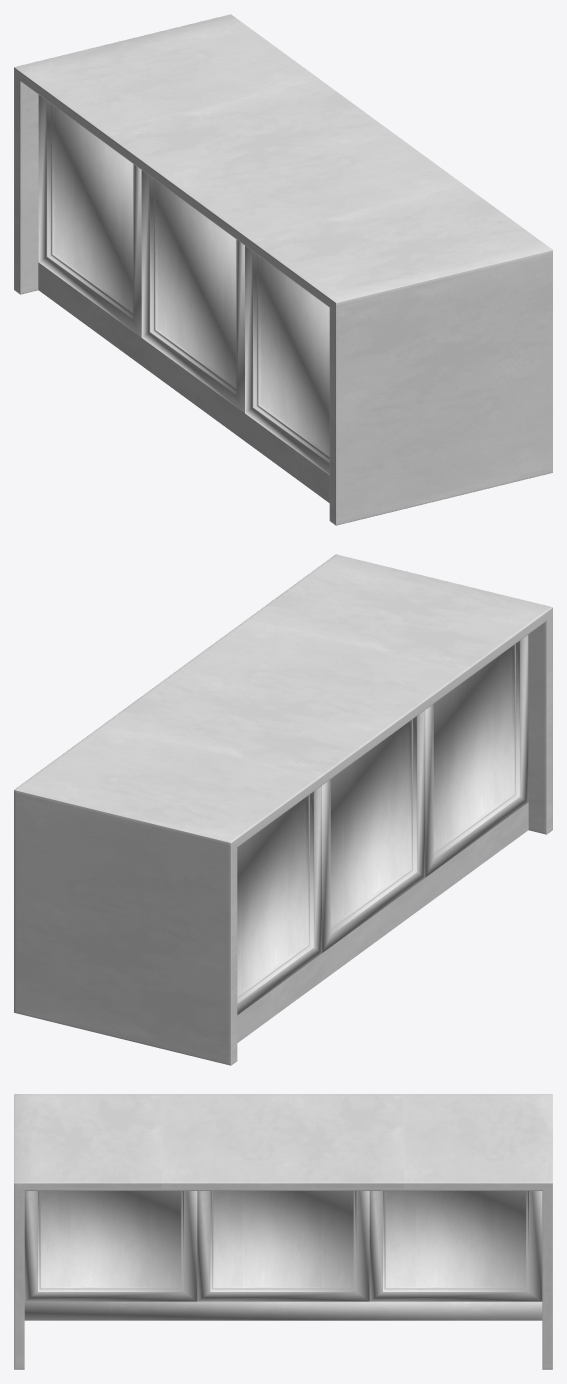
Rendered from Barra.obj.
3 views of the same model, one above another, from view 1: azimuth 30°, elevation 25°; view 2: azimuth 150°, elevation 25°; view 3: azimuth 270°, elevation 25° (orthographic). The views are drawn at different scales.
Visible parts, largest first — view 1: isle_wood1; view 2: isle_wood1; view 3: isle_wood1.
Part boxes in pixels (left/top/right/bottom): isle_wood1: left=14, top=14, right=552, bottom=525; isle_wood1: left=14, top=554, right=552, bottom=1065; isle_wood1: left=14, top=1094, right=552, bottom=1369.
Bounding box in the file's own units: 0.9345 × 0.9166 × 2.4.
2 materials, 1 textured.
